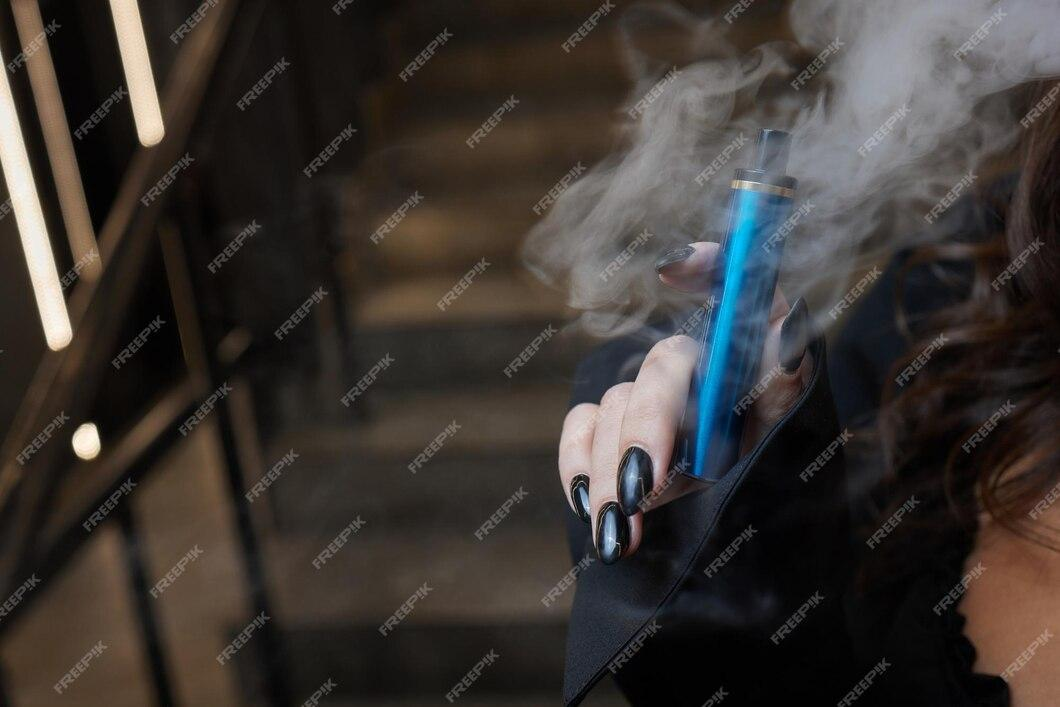Vape: (680, 128, 796, 481)
